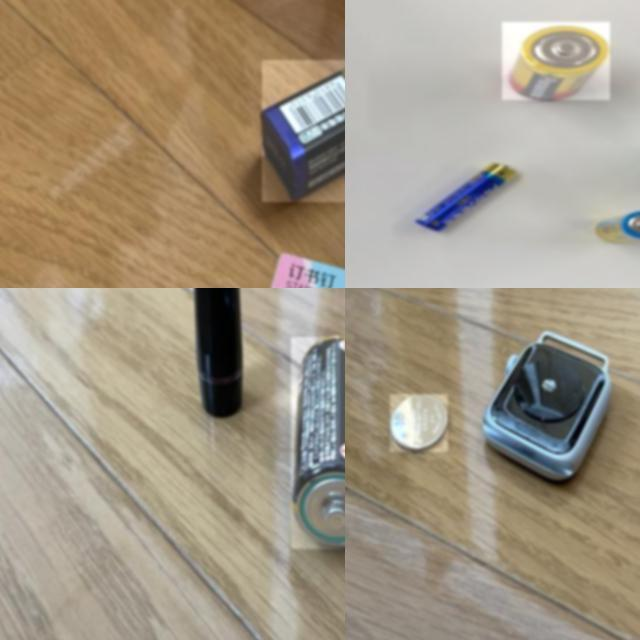9V: (261, 60, 345, 202)
